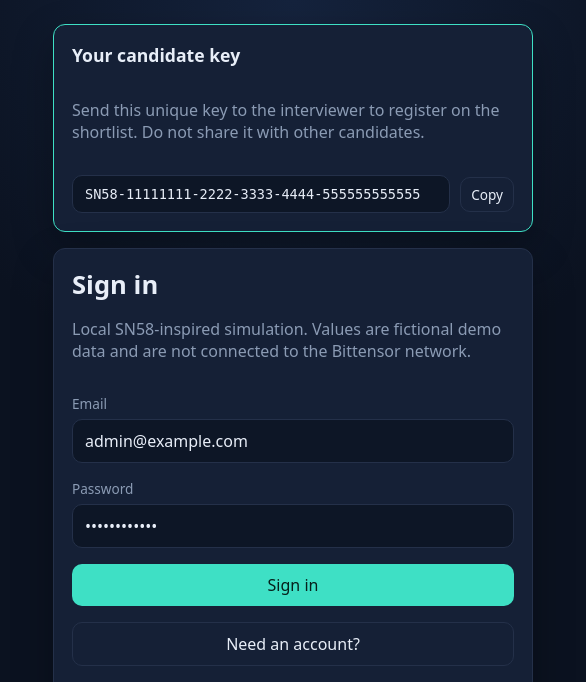
it: LoginPage › shows an API error when login fails
The width and height of the screenshot is (586, 682).
Step 1. Click the button "Sign in" → (293, 585), box left=72, top=564, right=514, bottom=606
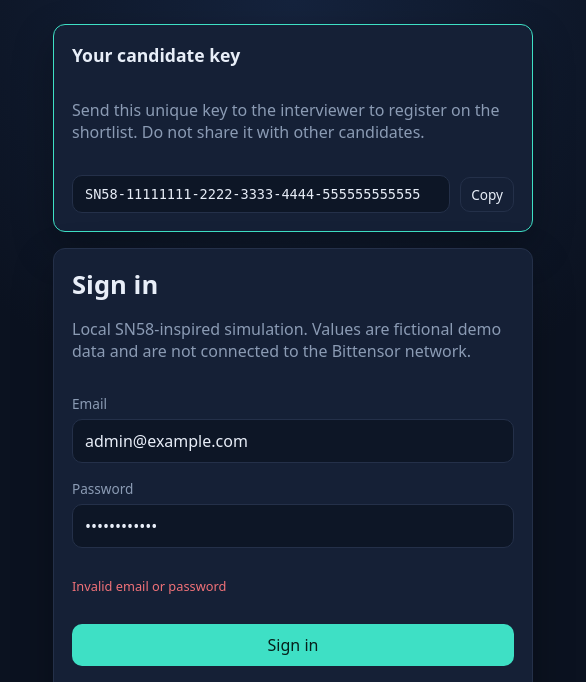
Check: the text "Invalid email or password" is shown, box left=72, top=577, right=226, bottom=595
